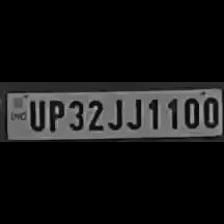0: (180, 95, 200, 129), (200, 95, 220, 129)
1: (162, 94, 180, 130), (143, 96, 161, 130)
2: (84, 97, 104, 131)
3: (66, 97, 84, 131)
J: (106, 95, 124, 131), (124, 94, 142, 130)
P: (46, 96, 64, 132)
U: (26, 97, 44, 131)
